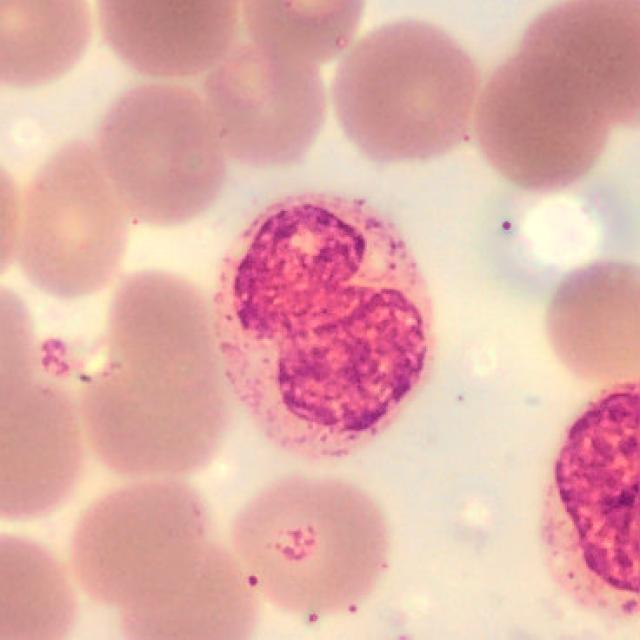Metamielocito: (214, 194, 435, 464)
